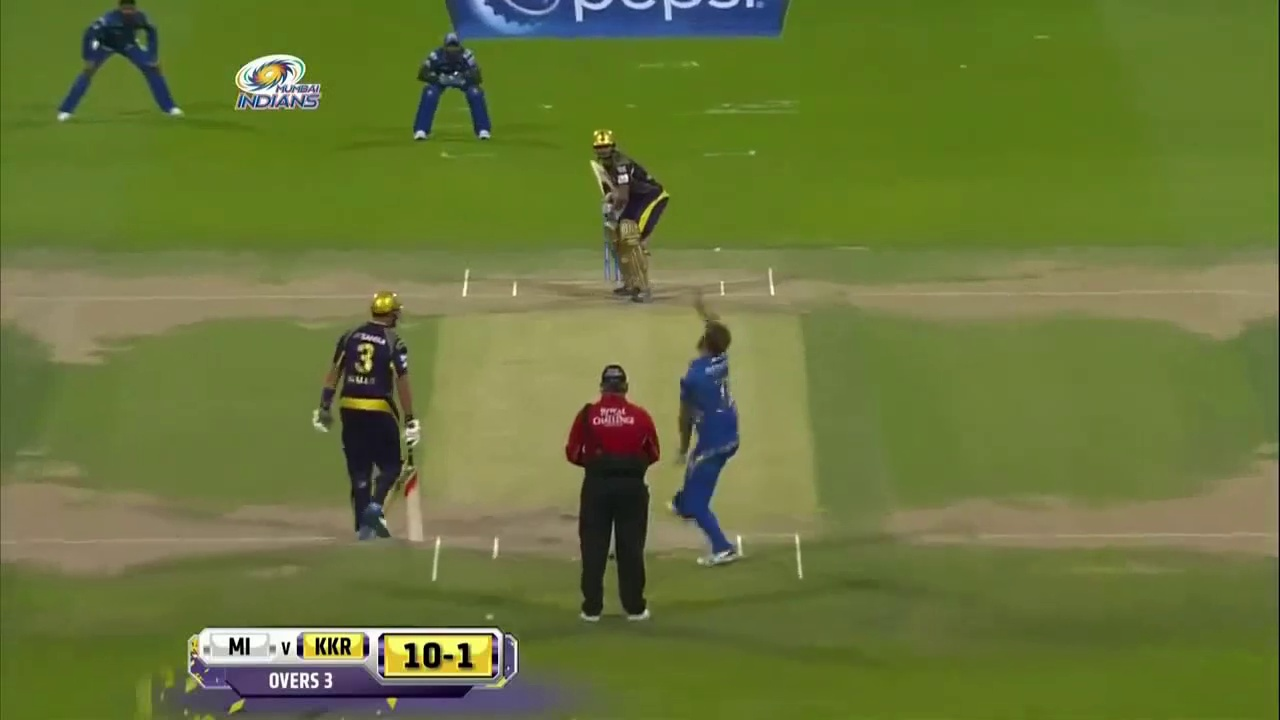bat: (404, 445, 423, 542), (590, 159, 611, 194)
